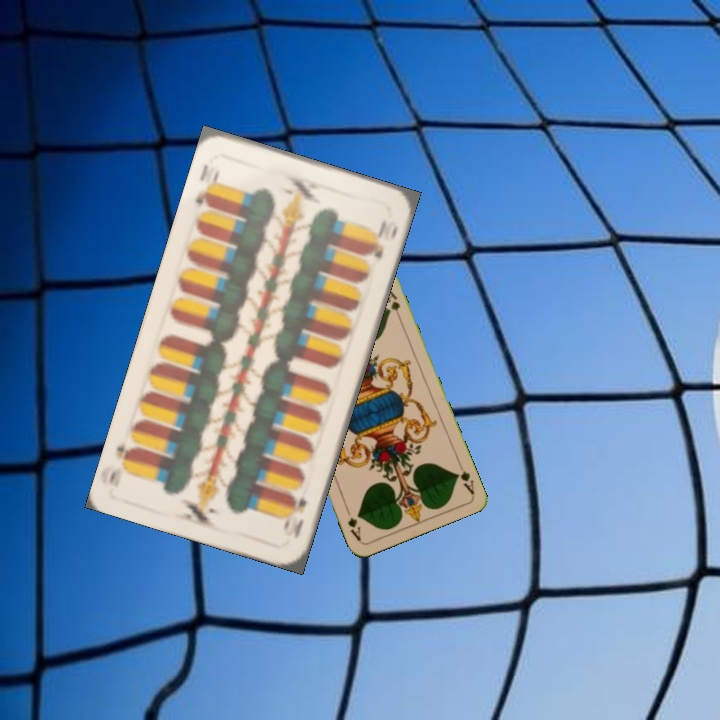E10: (279, 490, 310, 541), (191, 166, 222, 210)
GA: (452, 458, 477, 497)
